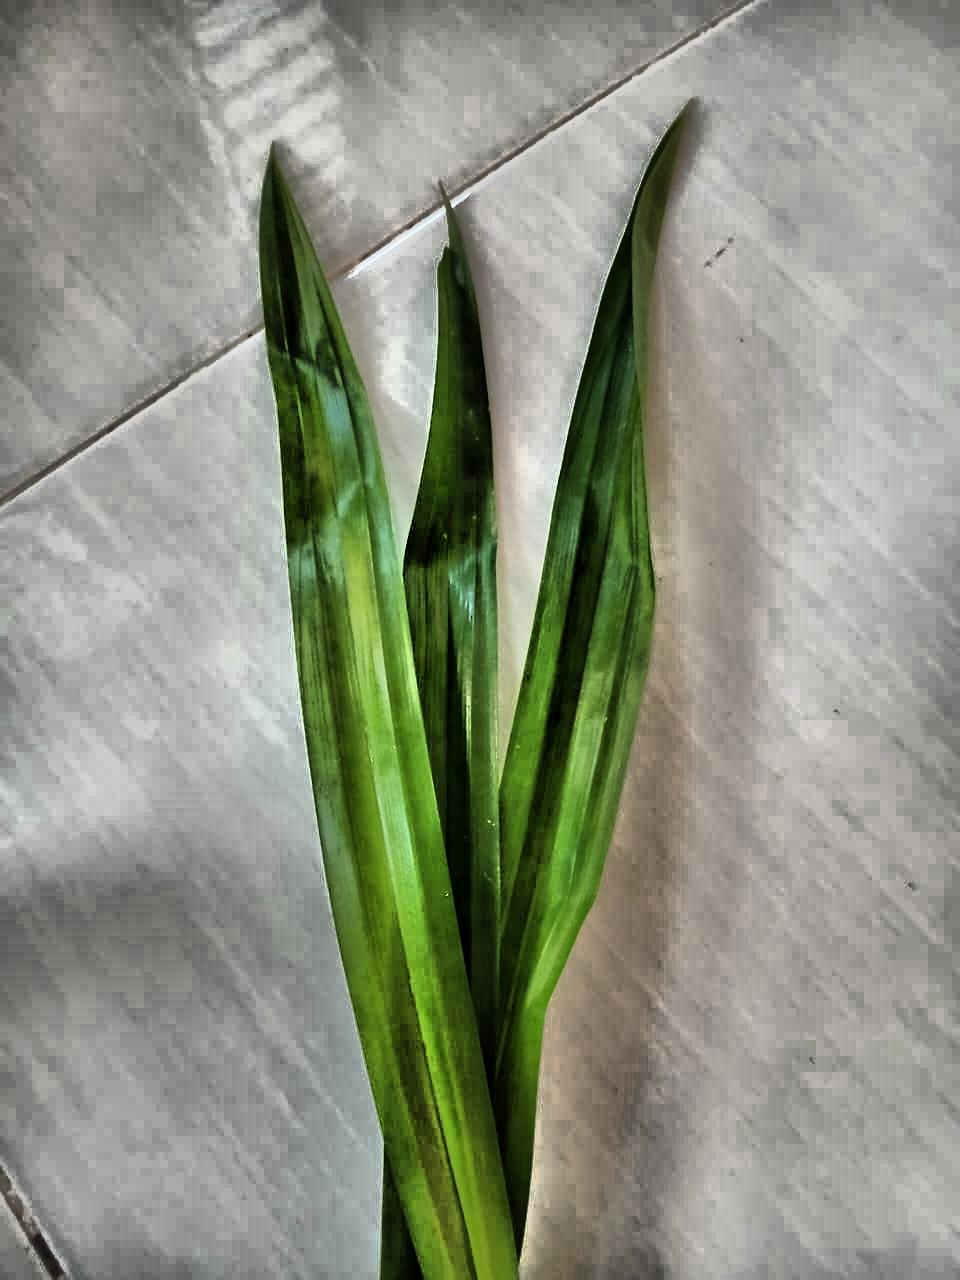daun pandan: (259, 108, 688, 1279)
